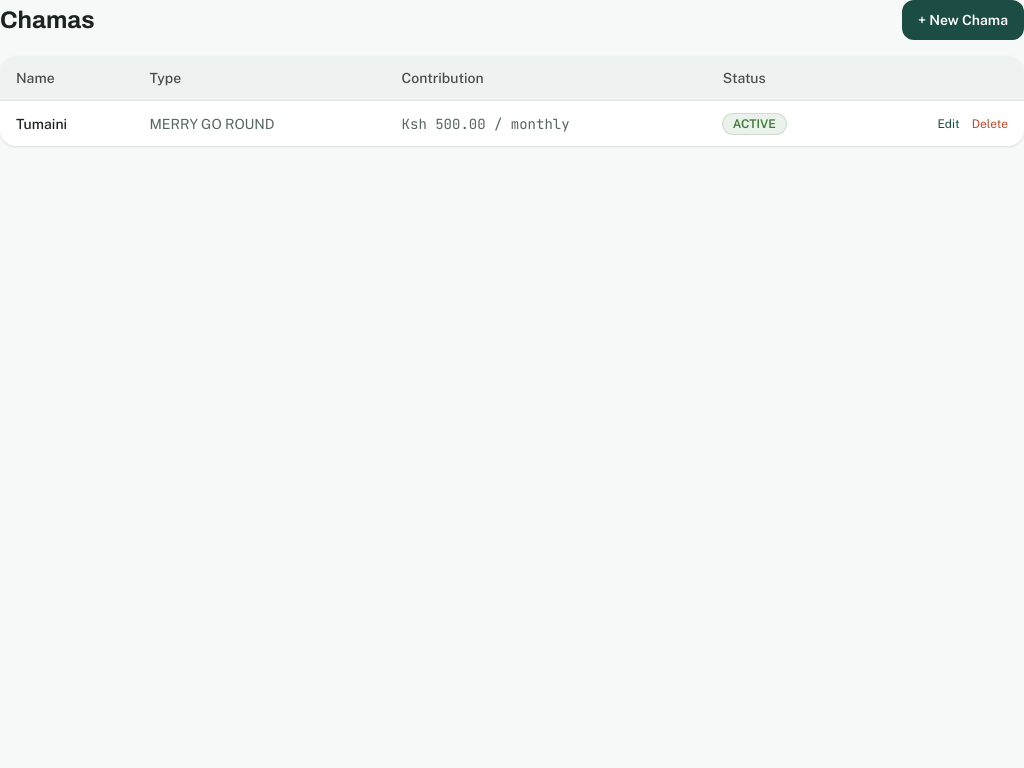
Scenario: ChamasPage › shows the backend error message when creation fails
Expected: the link "Tumaini" is shown, [16, 116, 67, 132]
Click the button "+ New Chama" at point(963, 20), box [902, 0, 1023, 40]
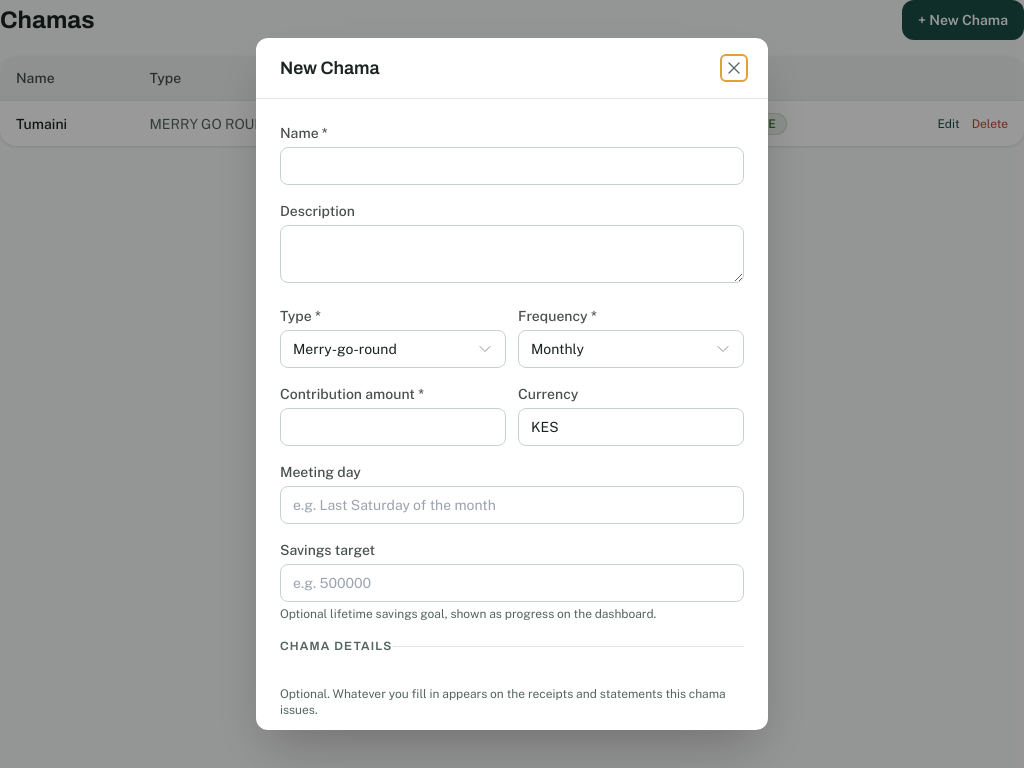
Type "Upya" into the field labelled "Name *" at point(512, 166), box [280, 147, 744, 185]
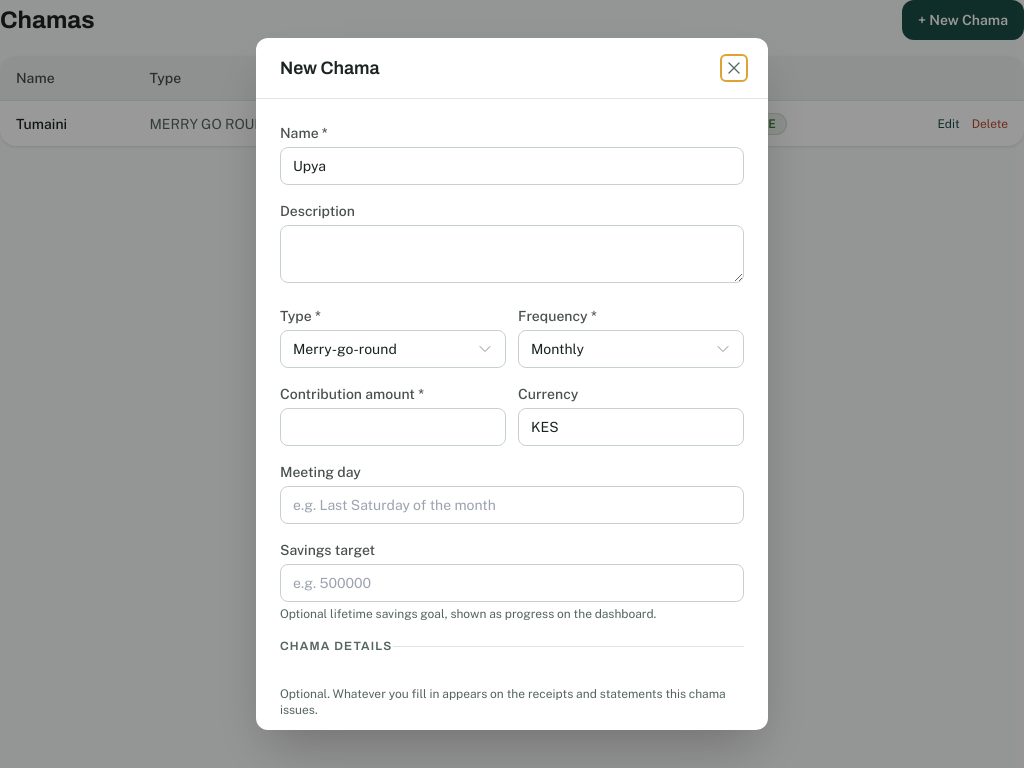
Type "1000" into the number field labelled "Contribution amount *" at point(393, 427), box [280, 408, 506, 446]
(page scrolled)
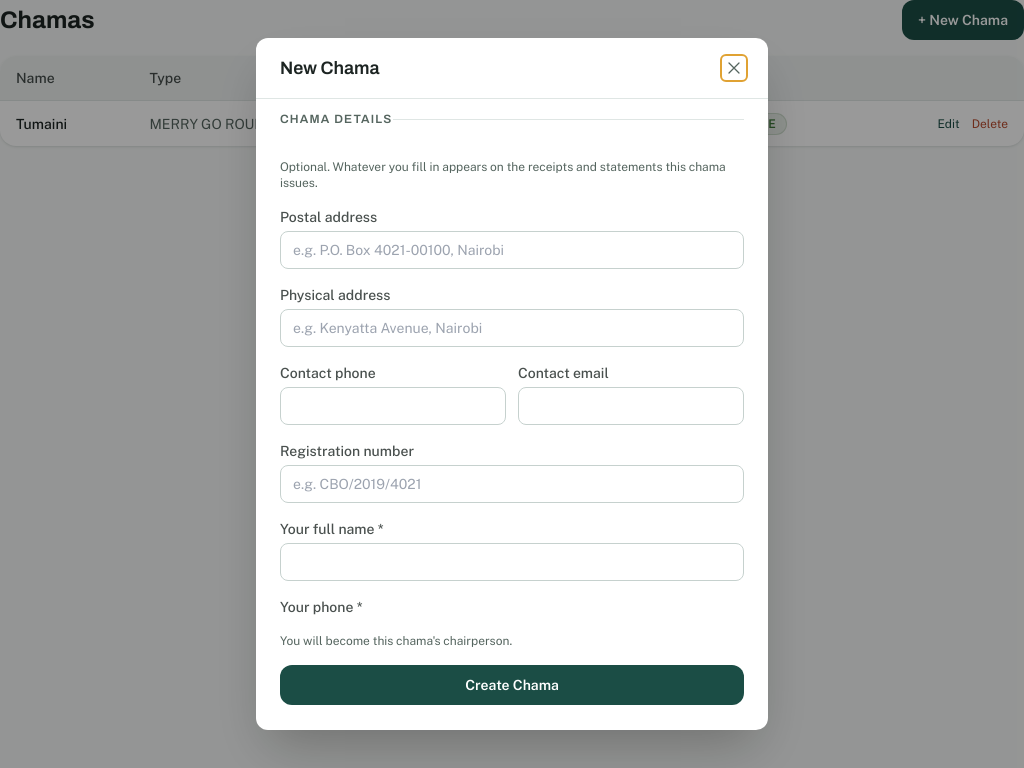
Type "Jane" into the field labelled "Your full name *" at point(512, 562), box [280, 543, 744, 581]
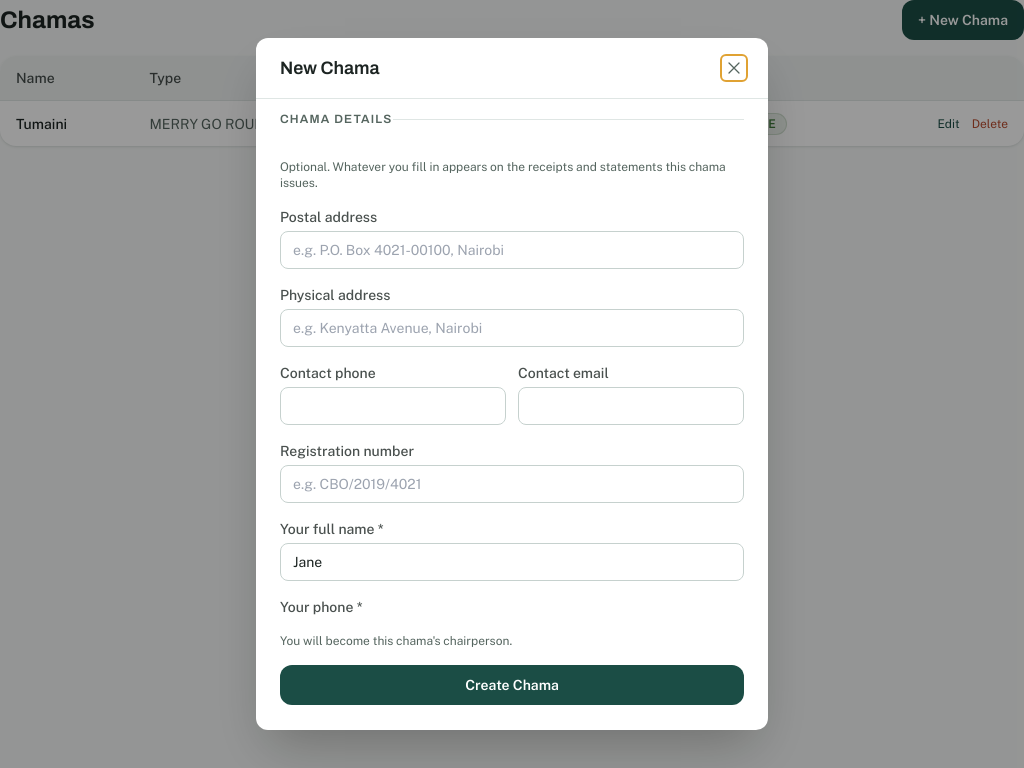
Click the button "Create Chama" at point(512, 685), box [280, 665, 744, 705]
(page scrolled)
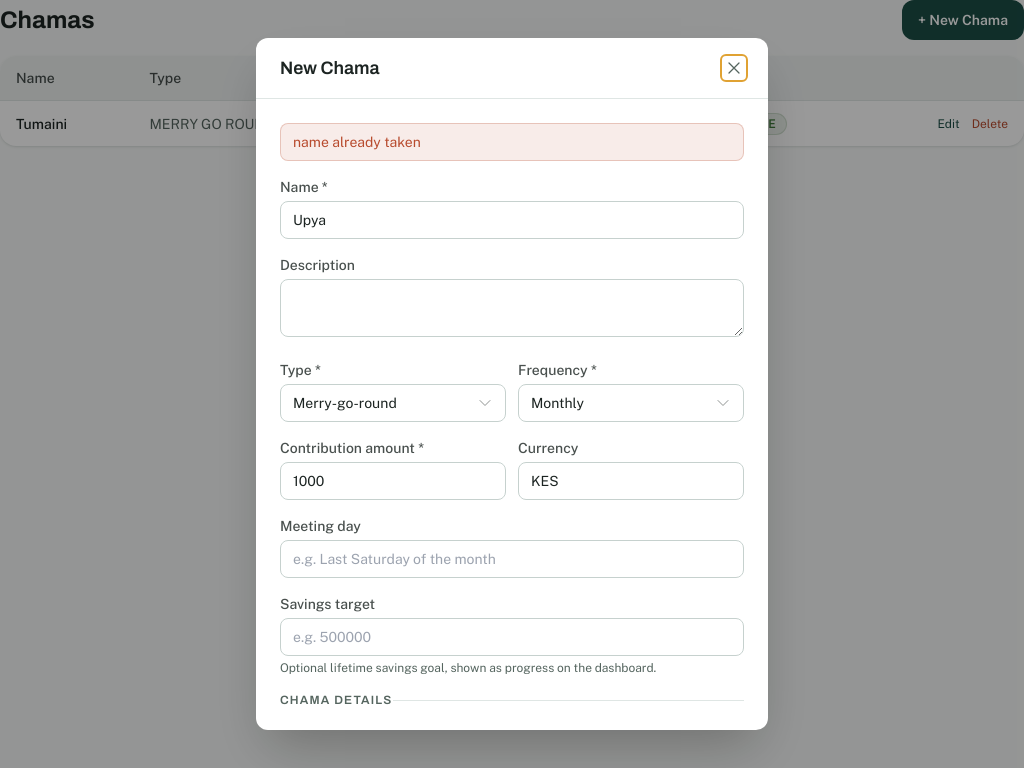
Now the text "name already taken" is shown, box [280, 123, 744, 161]
